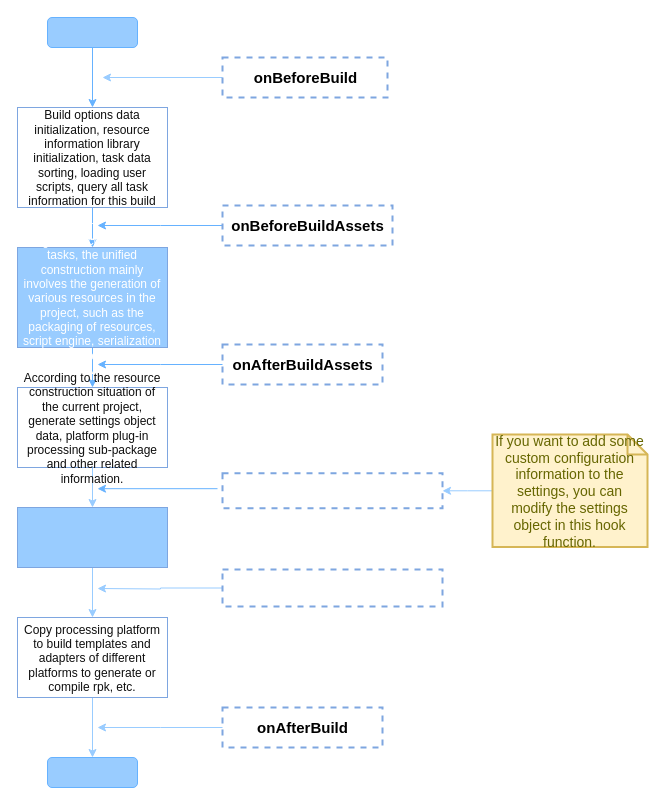
The diagram is 666 pixels wide and 805 high, and some of its shapes have lost their labels. The centre of each missing label's shape, as x and y in pixels:
"Compress the uuid in the settings object and write it into the actual package." goes at (x=92, y=537).
"End build" goes at (x=92, y=772).
"onAfterCompressSettings" goes at (x=332, y=587).
"onBeforeCompressSettings" goes at (x=332, y=490).
"开始构建" goes at (x=92, y=32).
